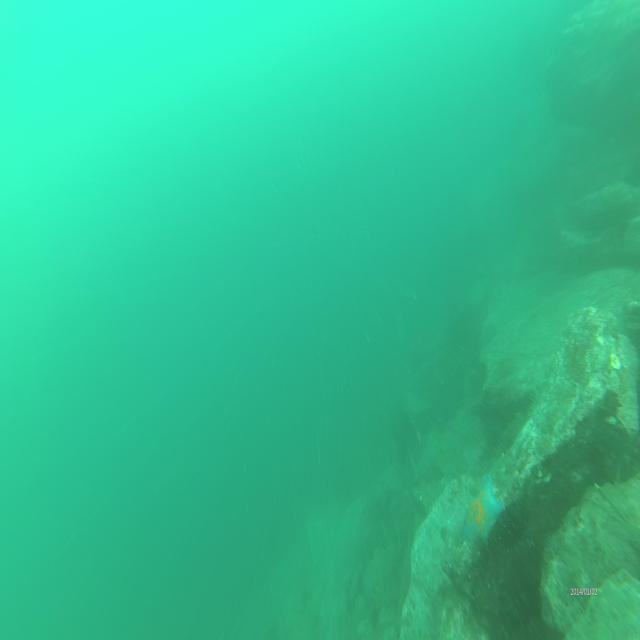starfish: (466, 473, 505, 547)
